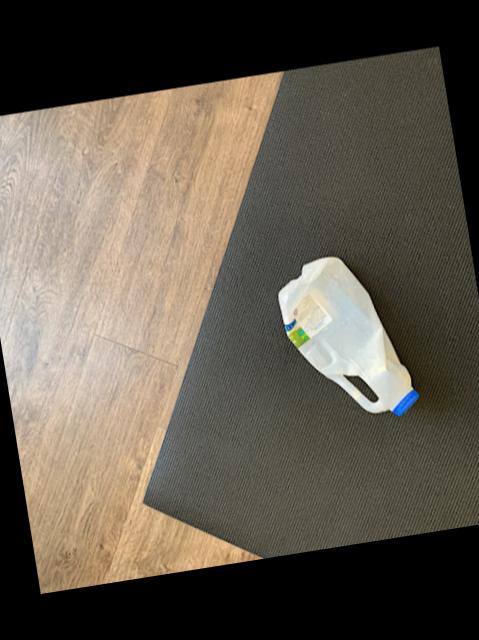plastic: (277, 258, 416, 417)
